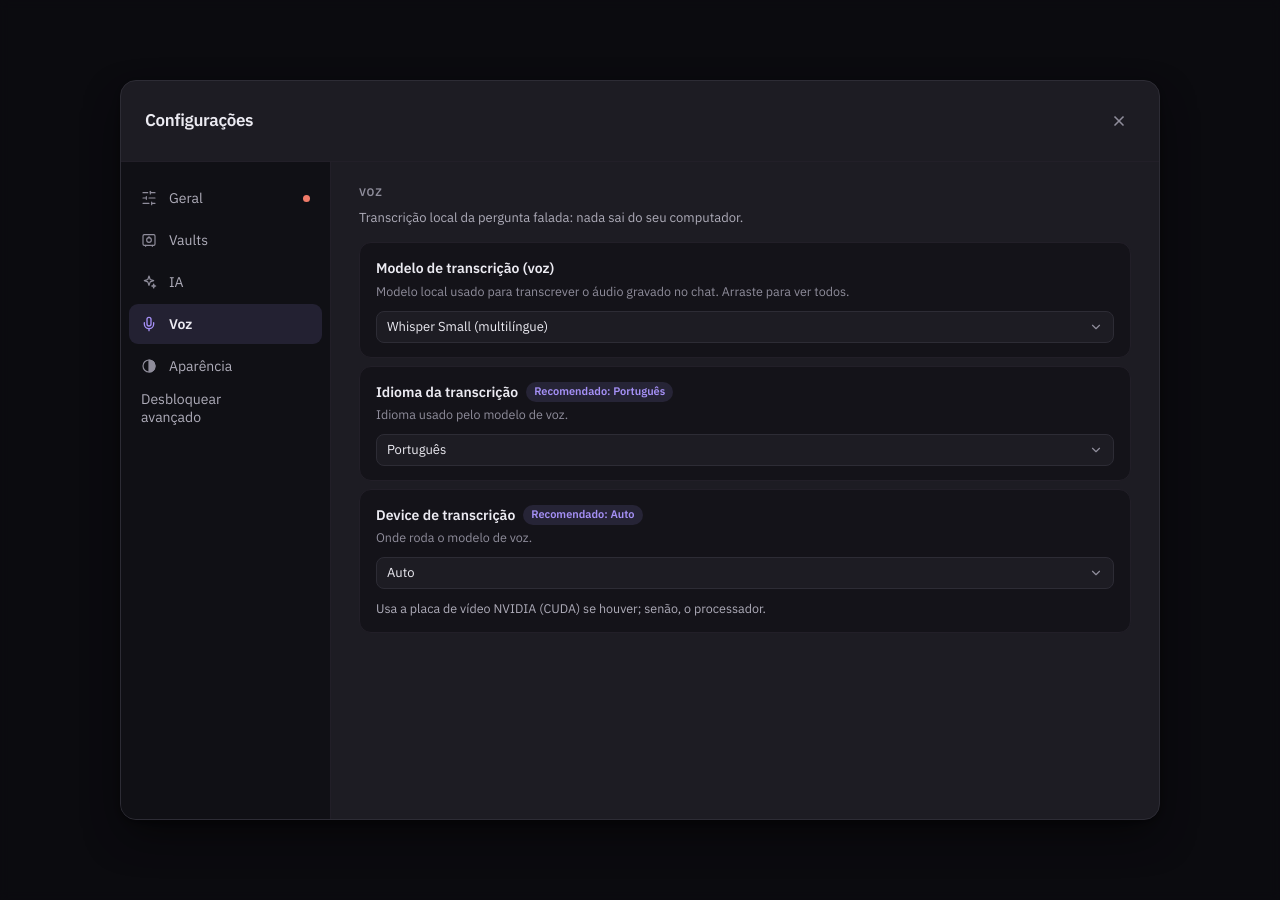
SettingsModal › explica cada opção técnica no dropdown e abaixo do select (ex.: Auto, CPU, CUDA)
This screenshot has width=1280, height=900.
Expected: the text "Usa a placa de vídeo NVIDIA (CUDA) se houver; senão, o processador." is shown, [376, 600, 766, 616]
Expected: the text "Recomendado: Auto" is shown, [523, 505, 642, 525]
Click the dropdown named "Device de transcrição". click: (401, 573)
box: [376, 557, 1114, 589]
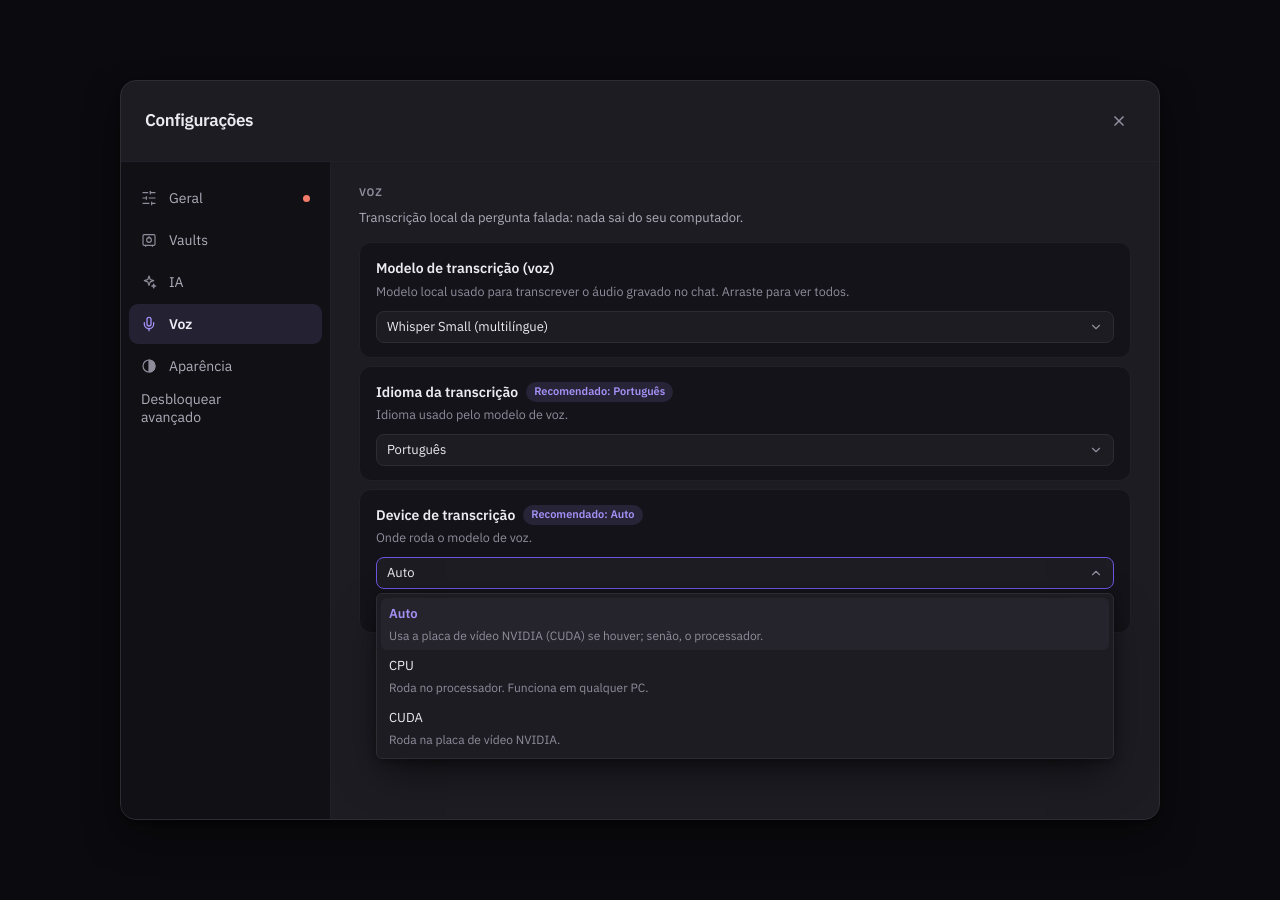
Now the text "Roda na placa de vídeo NVIDIA." is shown, box [389, 731, 560, 748]
Click the option "CPU". click: (519, 687)
box: [389, 657, 648, 695]
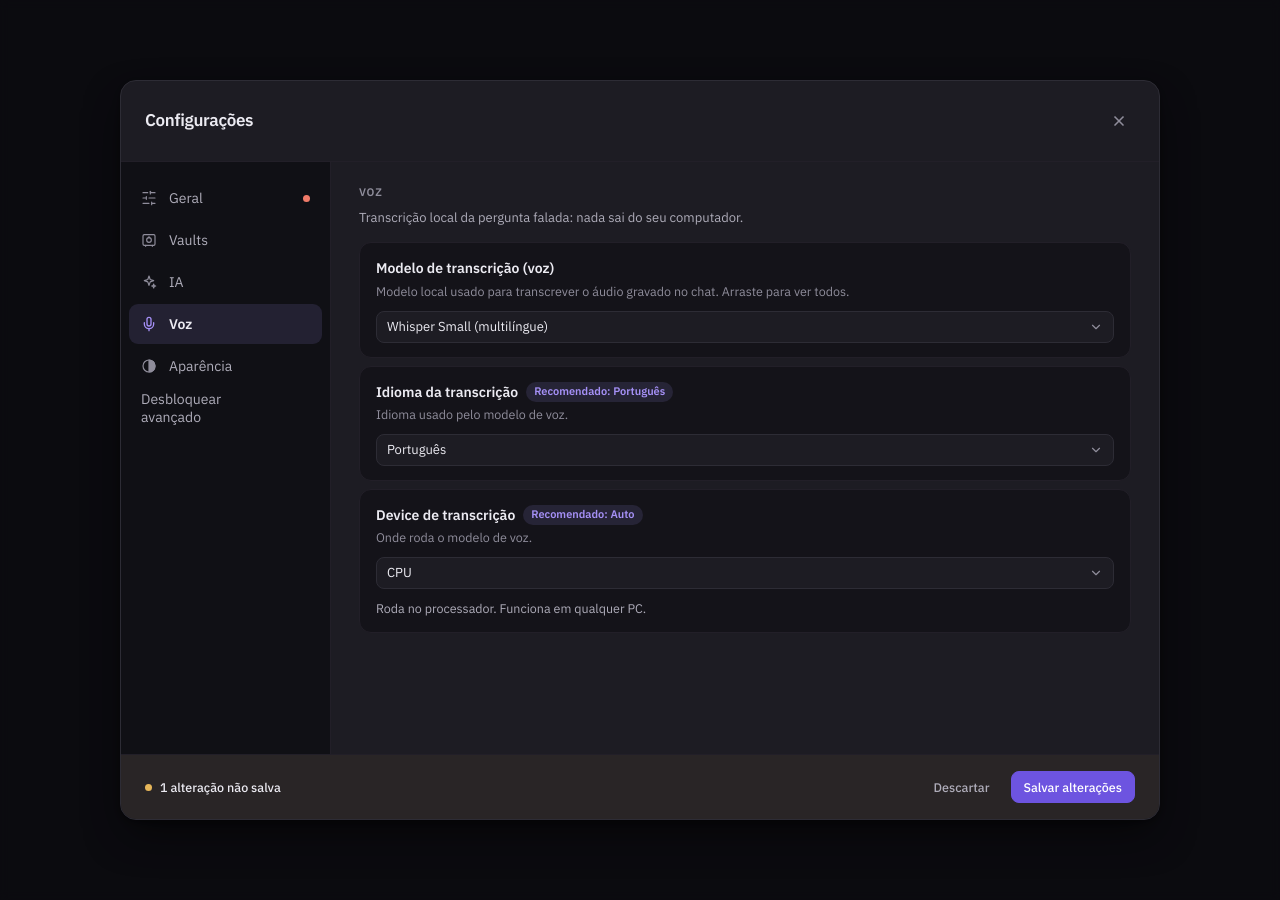
Now the text "Roda no processador. Funciona em qualquer PC." is shown, box [376, 600, 646, 616]
